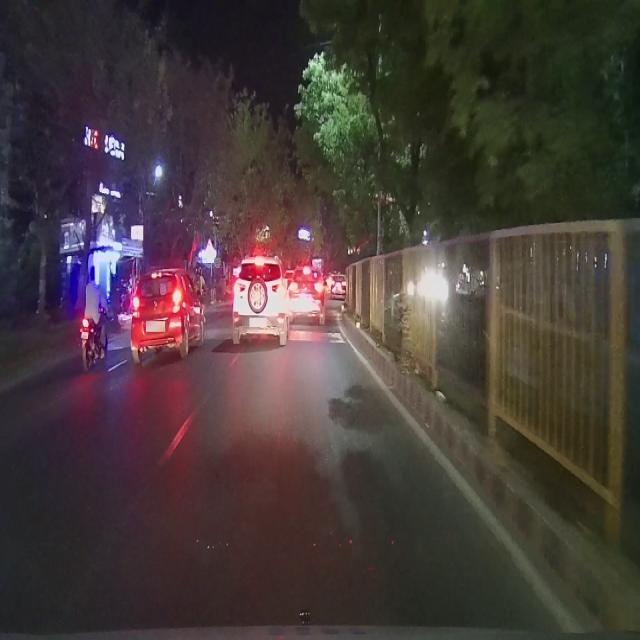car ahead at: (130, 271, 207, 369), (225, 251, 291, 351)
